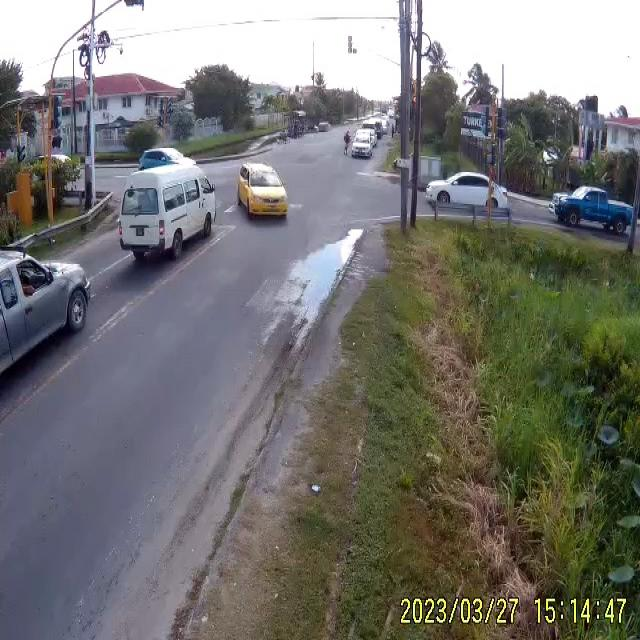car: (1, 244, 92, 438), (118, 169, 216, 260), (554, 188, 636, 234), (424, 172, 510, 212), (239, 162, 290, 218), (139, 149, 187, 171), (352, 133, 376, 160), (315, 121, 329, 133)
